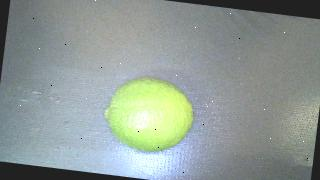EXPORTACION: (100, 73, 197, 157)
